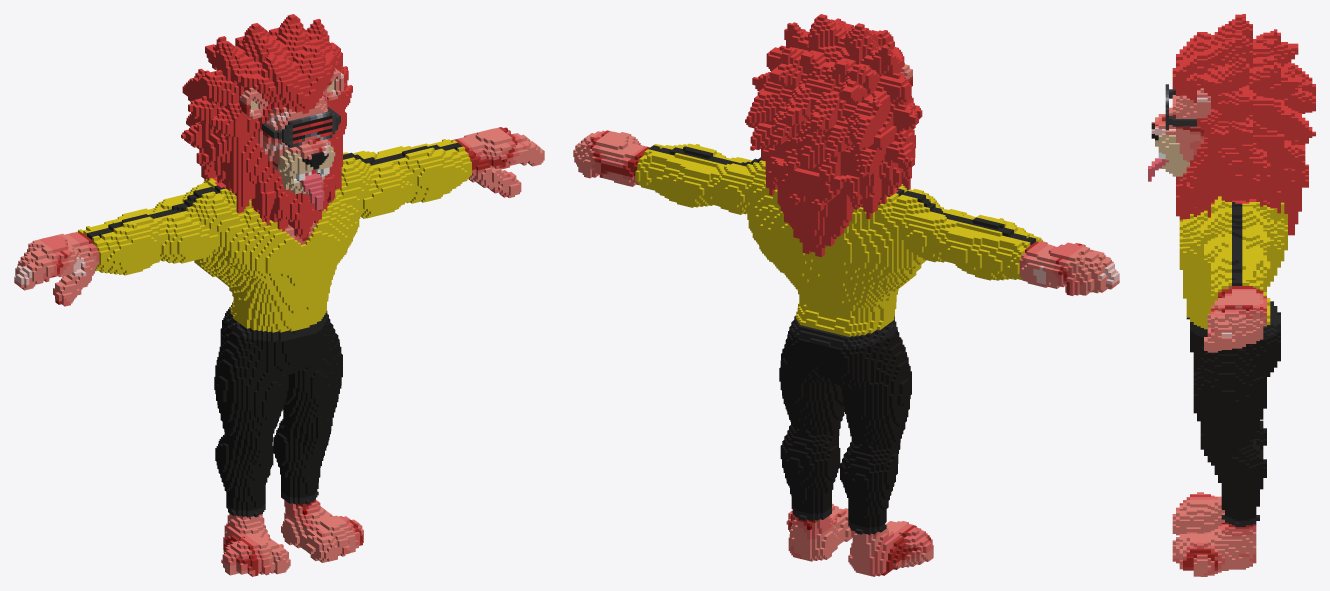
The model's file is 241-550v-HVa.fbx.
3 views of the same model, side by side, from view 1: azimuth 30°, elevation 25°; view 2: azimuth 150°, elevation 25°; view 3: azimuth 270°, elevation 25° (orthographic). The views are drawn at different scales.
Visible parts, largest first — view 1: tongue_out; view 2: tongue_out; view 3: tongue_out.
Part boxes in pixels (bbox=[...]): tongue_out: bbox=[14, 14, 544, 576]; tongue_out: bbox=[573, 14, 1119, 576]; tongue_out: bbox=[1148, 14, 1315, 576].
Bounding box in the file's own units: 17.2 × 16.5 × 4.8.
Materials: 5 (5 with a texture image).
